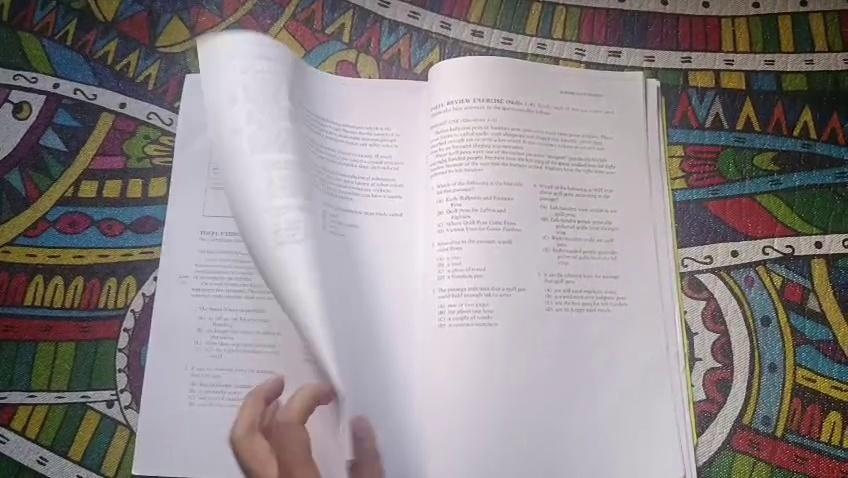Kertas: (418, 54, 690, 477), (137, 72, 376, 478)
